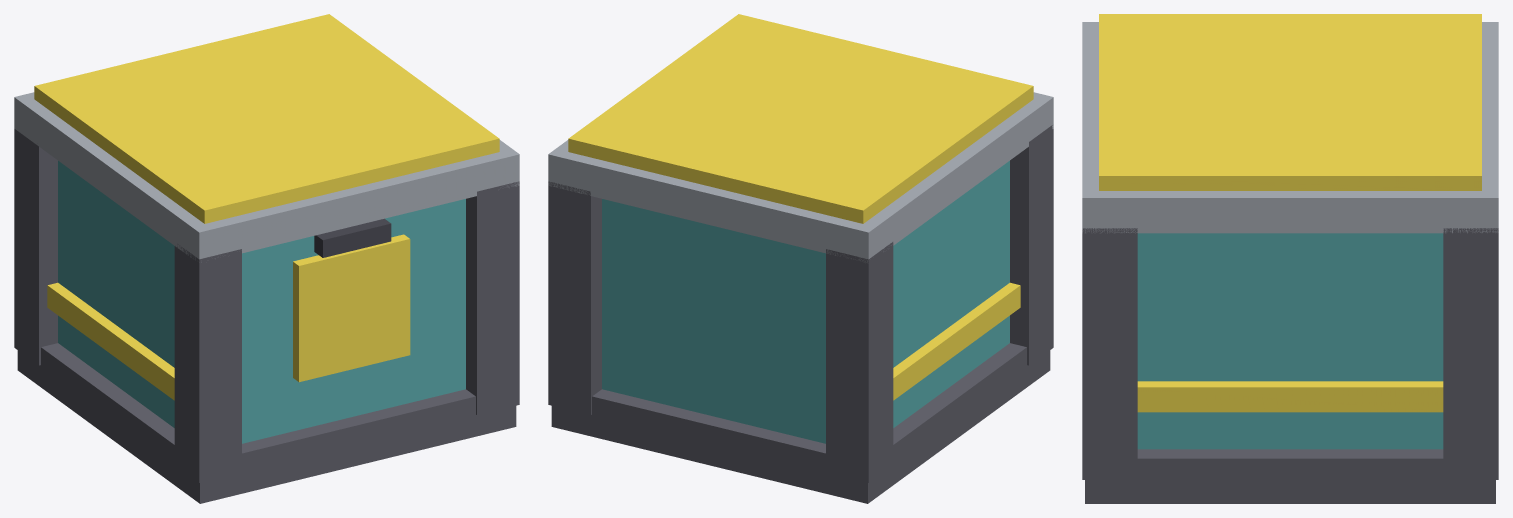
The model's file is gamble_box.glb.
3 views of the same model, side by side, from view 1: azimuth 30°, elevation 25°; view 2: azimuth 150°, elevation 25°; view 3: azimuth 270°, elevation 25° (orthographic). The views are drawn at different scales.
Visible parts, largest first — view 1: gamble_box; view 2: gamble_box; view 3: gamble_box.
Boxes of the visible parts, bbox=[...] form: gamble_box: bbox=[14, 14, 519, 503]; gamble_box: bbox=[548, 14, 1053, 503]; gamble_box: bbox=[1082, 14, 1498, 503].
Bounding box in the file's own units: 0.75 × 0.64 × 0.75.
